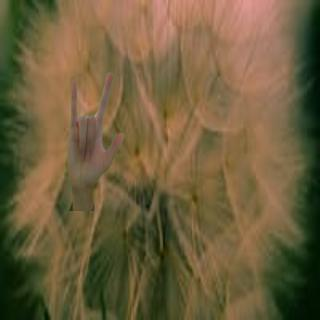ILY: (63, 70, 129, 192)
